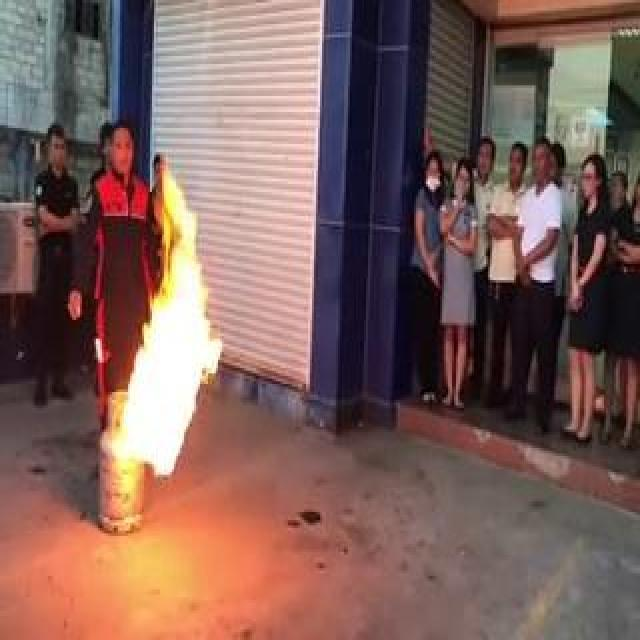Smoke: (144, 184, 256, 467)
